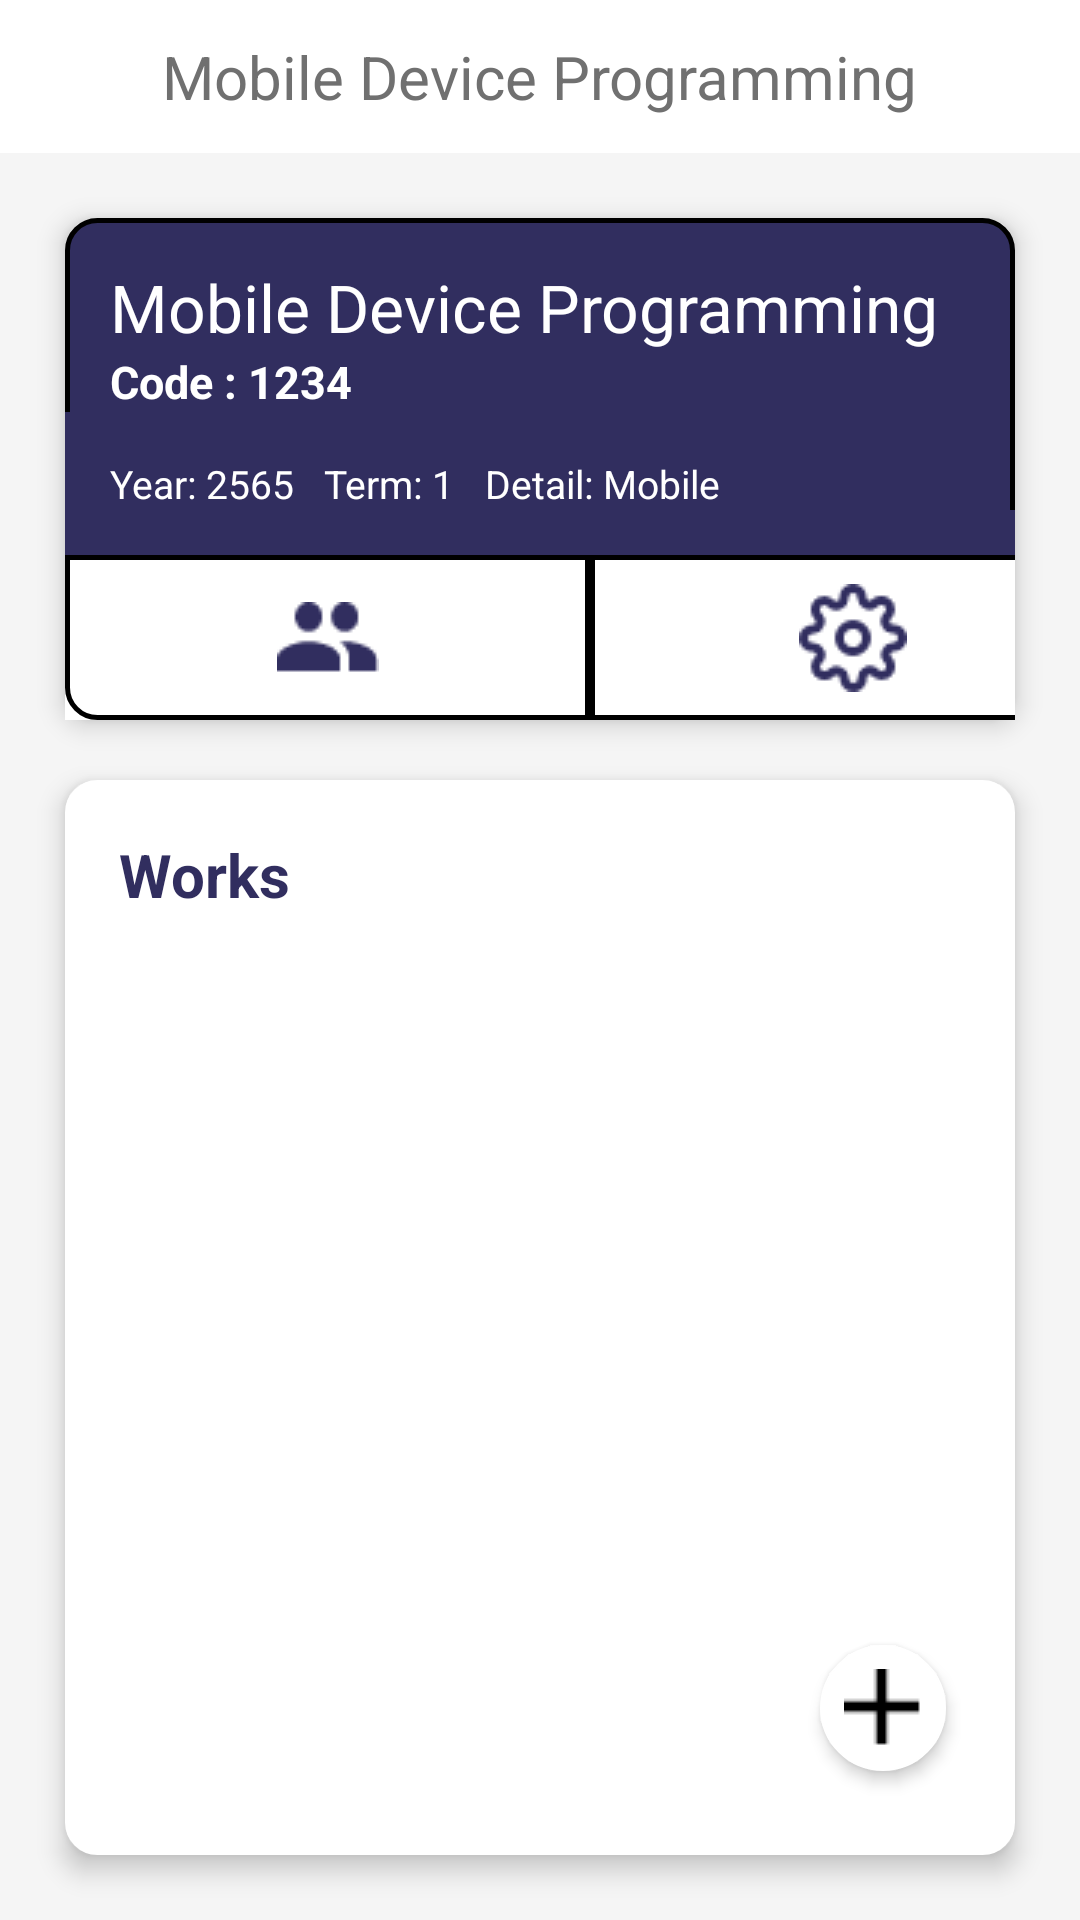

Point at icon controls on the screen. Image size 1080x1920, points as (x=x, y=y).
add: (x=871, y=1707)
